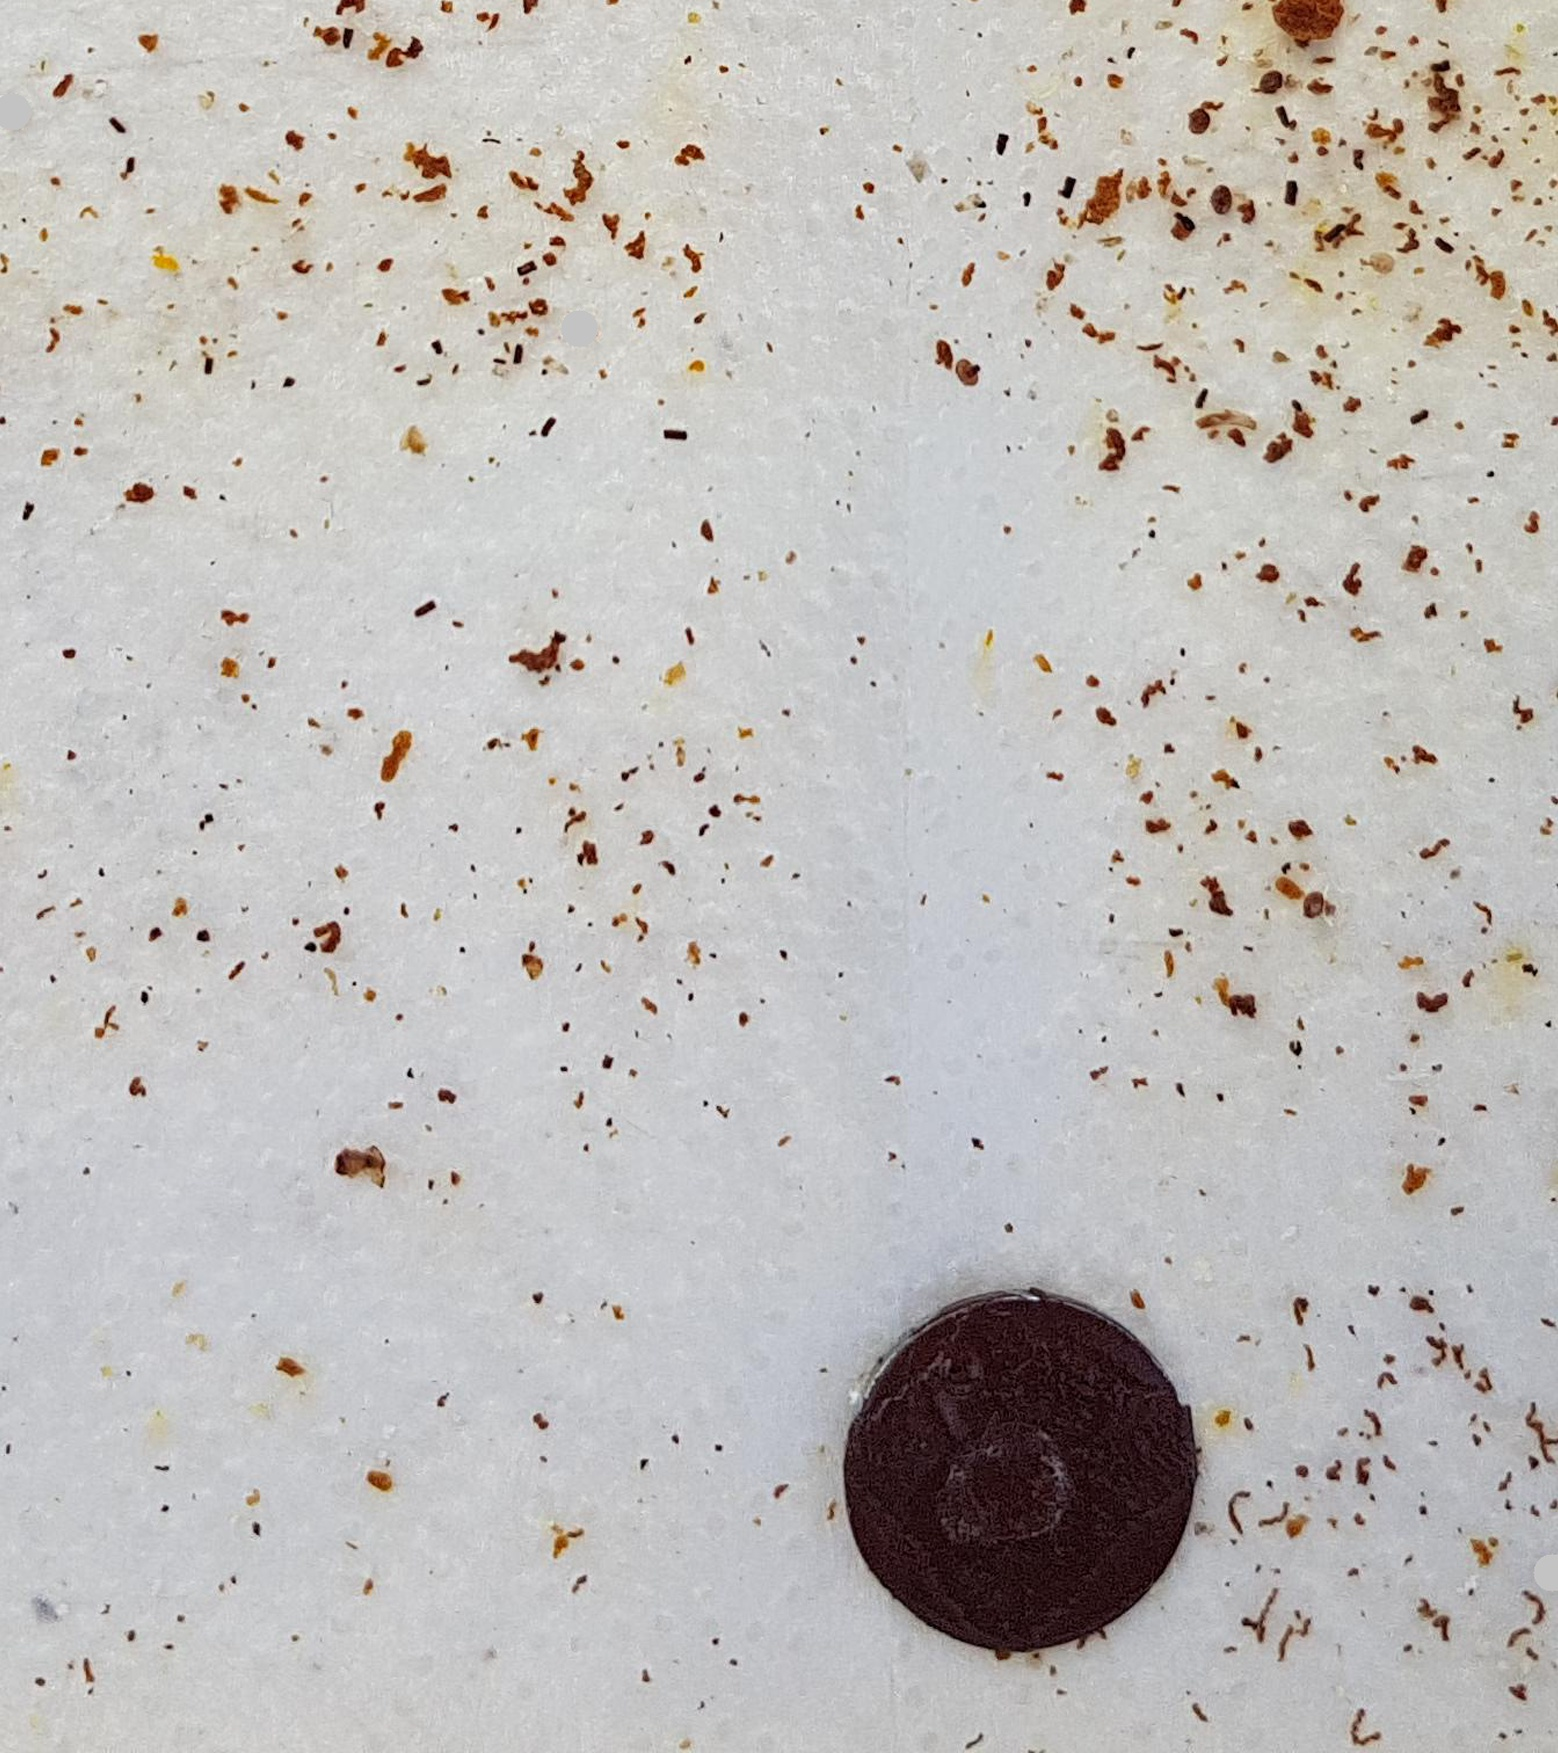Varroa: (947, 350, 985, 391), (1208, 185, 1244, 221), (1296, 886, 1331, 922), (1181, 101, 1215, 135), (1248, 63, 1281, 99), (1202, 186, 1218, 207)
